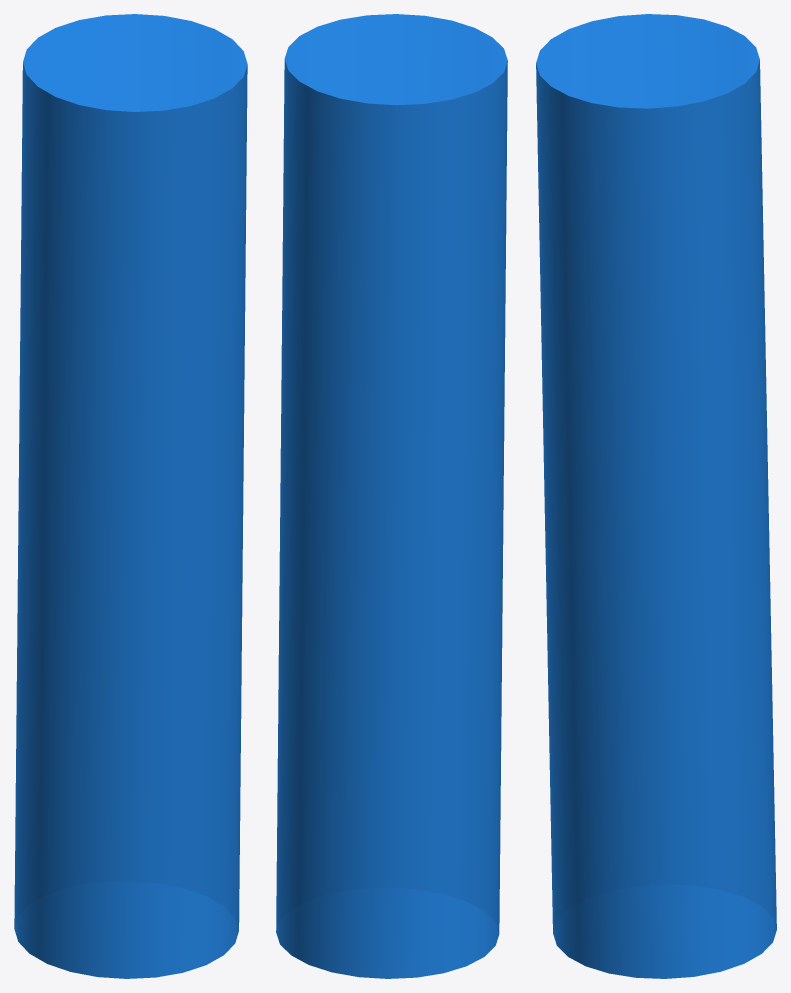
Rendered from Event_191826238_MET.fbx.
The picture shows the model from 3 angles, left to right: view 1: azimuth 30°, elevation 25°; view 2: azimuth 150°, elevation 25°; view 3: azimuth 270°, elevation 25°; orthographic projection.
Parts seen in each view (by area): view 1: Model; view 2: Model; view 3: Model.
Part boxes in pixels (x1=…): Model: x1=14, y1=14, x2=247, y2=978; Model: x1=276, y1=14, x2=507, y2=978; Model: x1=536, y1=14, x2=776, y2=978.
Bounding box in the file's own units: 0.04 × 0.1722 × 0.043.
